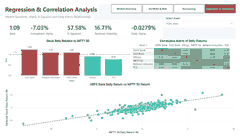

Layout of this report page (visuals, bound fields, positions):
{"tool":"powerbi","page":{"name":"Regression & Correlation","canvas":[1280,720],"ordinal":3},"visuals":[{"type":"textbox","box":[0,0,525.3,52.8],"z":0},{"type":"textbox","box":[0,52.8,495.8,31.9],"z":1000},{"type":"slicer","fields":{"Values":["Asset_Table.Asset"]},"box":[784.2,0,495.8,68.7],"z":2000},{"type":"cardVisual","fields":{"Data":["Regression_Results.Asset Beta"]},"box":[0,84.7,143.6,105.5],"z":3000},{"type":"cardVisual","fields":{"Data":["Regression_Results.Asset Annualised Alpha"]},"box":[115.4,84.7,230.7,105.5],"z":4000},{"type":"cardVisual","fields":{"Data":["Regression_Results.Asset R-Squared"]},"box":[319.1,84.7,176.7,105.5],"z":5000},{"type":"cardVisual","fields":{"Data":["Regression_Results.Asset Residual Volatility"]},"box":[470,84.7,233.2,105.5],"z":6000},{"type":"cardVisual","fields":{"Data":["Regression_Results.Asset Daily Alpha"]},"box":[672.5,84.7,204.9,105.5],"z":7000},{"type":"clusteredColumnChart","title":"Stock Beta Relative to NIFTY 50","fields":{"Category":["Regression_Results.Asset"],"Y":["Max(Regression_Results.Beta)"]},"box":[0,192,704,240],"z":8000},{"type":"pivotTable","title":"Correlation Matrix of Daily Returns","fields":{"Rows":["Correlations.Asset 1"],"Columns":["Correlations.Asset 2"],"Values":["Max(Correlations.Correlation)"]},"box":[704,192,576,240],"z":9000},{"type":"scatterChart","fields":{"X":["Sum(Regression_Scatter.NIFTY Return (%))"],"Y":["Sum(Regression_Scatter.Stock Return (%))"],"Category":["Regression_Scatter.Date"]},"box":[0,432,1280,288],"z":10000}]}

Visuals, with their boxes in screenshot pixels (x1, y1, x2, y2), scaled from the page's 1280x720 canvas onto the 240x139 screenshot:
textbox: locate(0, 0, 98, 10)
textbox: locate(0, 10, 93, 16)
slicer - Asset_Table.Asset: locate(147, 0, 239, 13)
cardVisual - Regression_Results.Asset Beta: locate(0, 16, 27, 37)
cardVisual - Regression_Results.Asset Annualised Alpha: locate(22, 16, 65, 37)
cardVisual - Regression_Results.Asset R-Squared: locate(60, 16, 93, 37)
cardVisual - Regression_Results.Asset Residual Volatility: locate(88, 16, 132, 37)
cardVisual - Regression_Results.Asset Daily Alpha: locate(126, 16, 165, 37)
"Stock Beta Relative to NIFTY 50" clusteredColumnChart: locate(0, 37, 132, 83)
"Correlation Matrix of Daily Returns" pivotTable: locate(132, 37, 239, 83)
scatterChart - Sum(Regression_Scatter.NIFTY Return (%)) x Sum(Regression_Scatter.Stock Return (%)): locate(0, 83, 239, 138)
